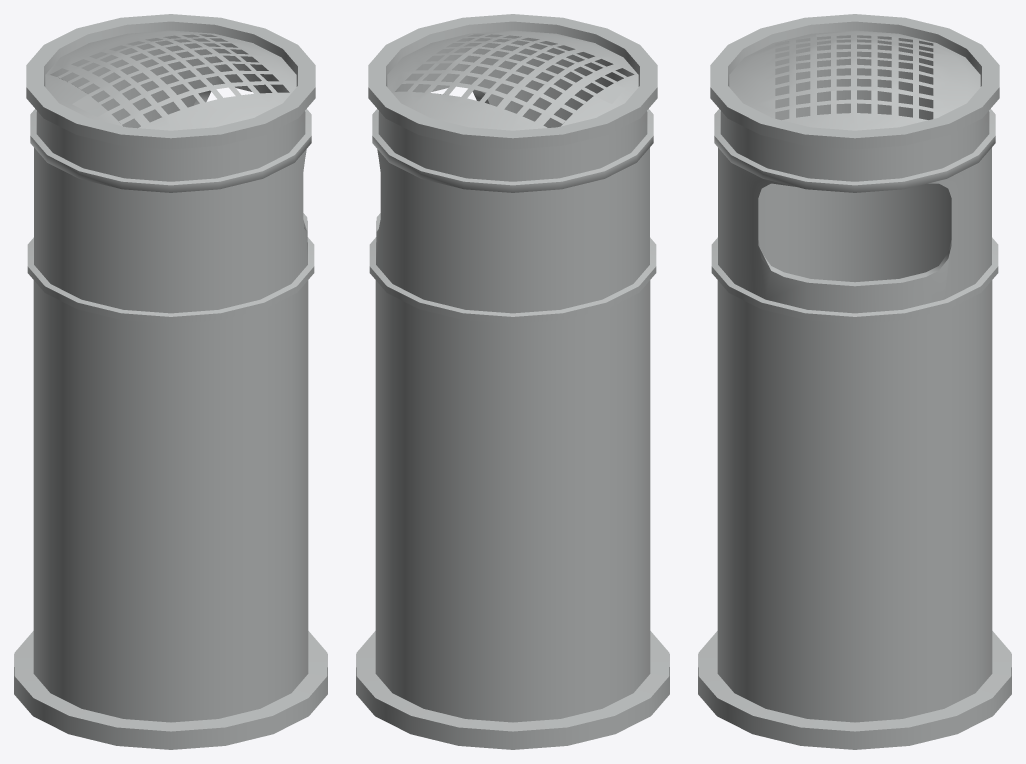
Rendered from trash_can_and_ashtray.glb.
The picture shows the model from 3 angles, left to right: view 1: azimuth 30°, elevation 25°; view 2: azimuth 150°, elevation 25°; view 3: azimuth 270°, elevation 25°; orthographic projection.
Visible parts, largest first — view 1: Object_3, Object_2; view 2: Object_3, Object_2; view 3: Object_3, Object_2.
Boxes of the visible parts, <box> form: Object_3: <box>14,14,327,749</box>; Object_2: <box>45,30,296,130</box>; Object_3: <box>356,14,669,749</box>; Object_2: <box>387,30,638,130</box>; Object_3: <box>698,14,1011,749</box>; Object_2: <box>729,30,980,130</box>.
Bounding box in the file's own units: 2.29 × 4.93 × 2.26.
1 material, 1 textured.
